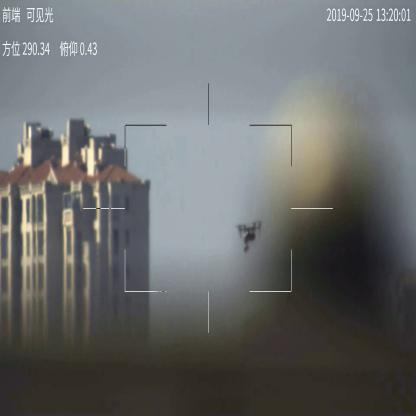uav: (232, 218, 264, 252)
